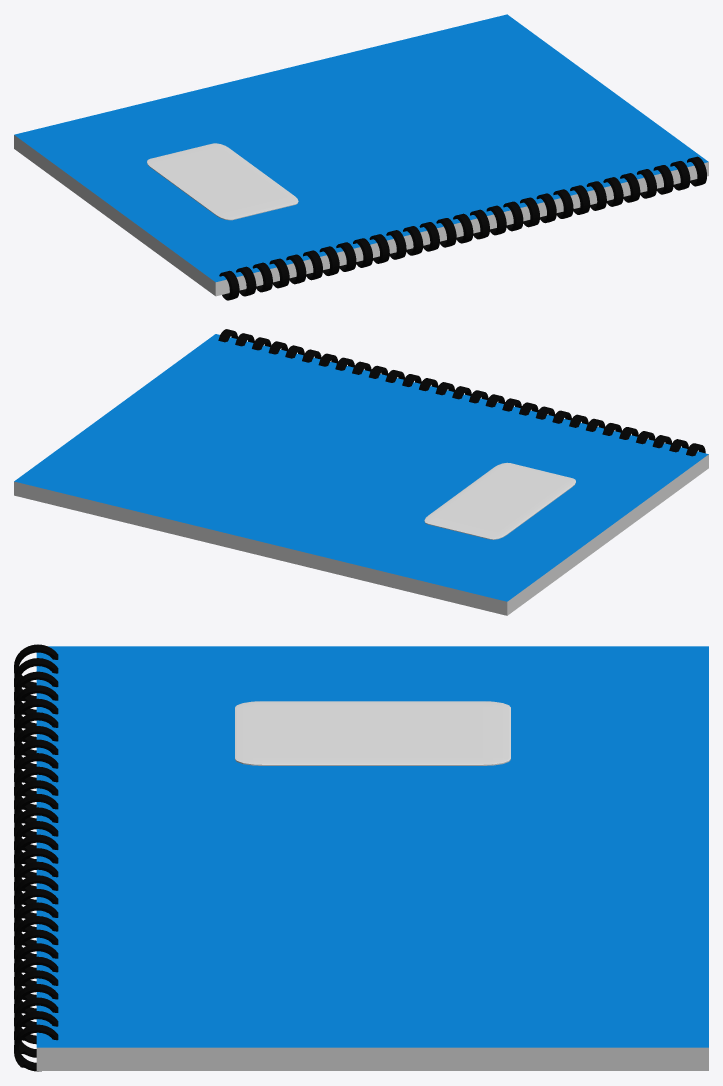
The model's file is NoteBook2.fbx.
The picture shows the model from 3 angles, top to bottom: view 1: azimuth 30°, elevation 25°; view 2: azimuth 150°, elevation 25°; view 3: azimuth 270°, elevation 25°; orthographic projection. The views are drawn at different scales.
Parts seen in each view (by area): view 1: Cube.056, Circle.001, Roundcube.001; view 2: Cube.056, Roundcube.001, Circle.001; view 3: Cube.056, Roundcube.001, Circle.001.
Boxes of the visible parts, left/top/right/bottom form: Cube.056: left=14, top=14, right=708, bottom=296; Circle.001: left=219, top=156, right=706, bottom=300; Roundcube.001: left=147, top=143, right=298, bottom=220; Cube.056: left=14, top=334, right=708, bottom=615; Roundcube.001: left=424, top=462, right=575, bottom=539; Circle.001: left=218, top=329, right=705, bottom=456; Cube.056: left=36, top=646, right=708, bottom=1070; Roundcube.001: left=235, top=701, right=510, bottom=765; Circle.001: left=14, top=644, right=58, bottom=1071.
Size of the model in its own units: 22.99 by 1.16 by 16.84.
